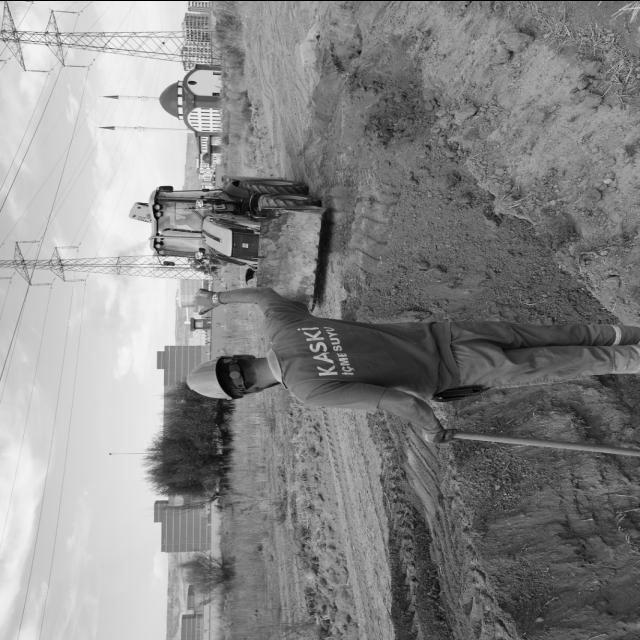construction helmet: (187, 355, 234, 399)
